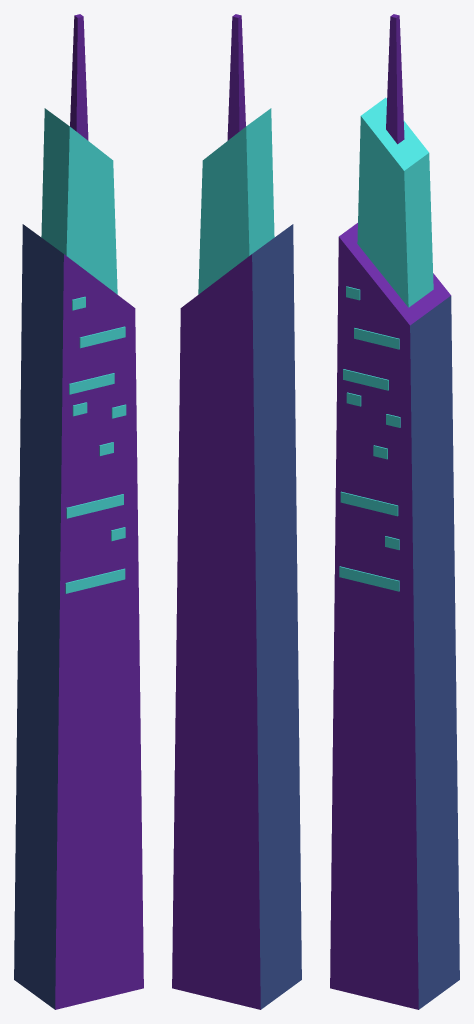
The model's file is Build_sci_fi_1.fbx.
3 renders of one model, left to right at view 1: azimuth 30°, elevation 25°; view 2: azimuth 150°, elevation 25°; view 3: azimuth 330°, elevation 25°, orthographic.
Parts seen in each view (by area): view 1: Build_sci_fi_1; view 2: Build_sci_fi_1; view 3: Build_sci_fi_1.
Boxes of the visible parts, x1,y1,x2,y2 form: Build_sci_fi_1: (14, 14, 143, 1009); Build_sci_fi_1: (172, 14, 301, 1009); Build_sci_fi_1: (330, 14, 459, 1009).
Size of the model in its own units: 99.8 by 1041 by 81.53.
